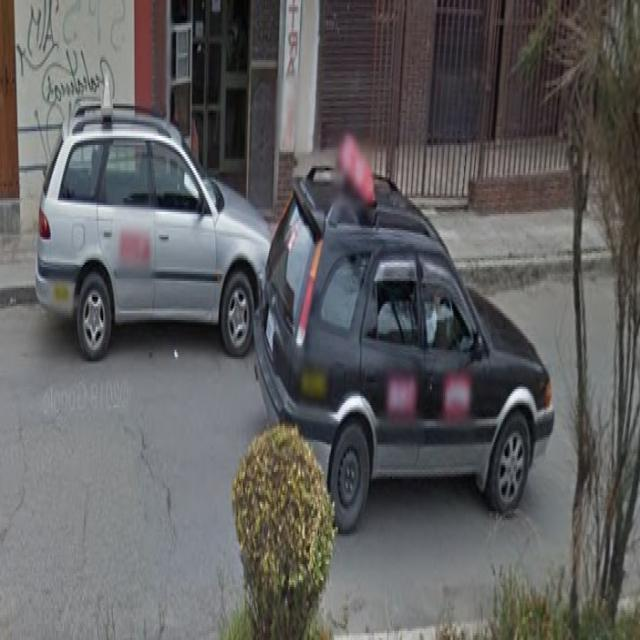car: (252, 164, 556, 533), (34, 101, 274, 361)
